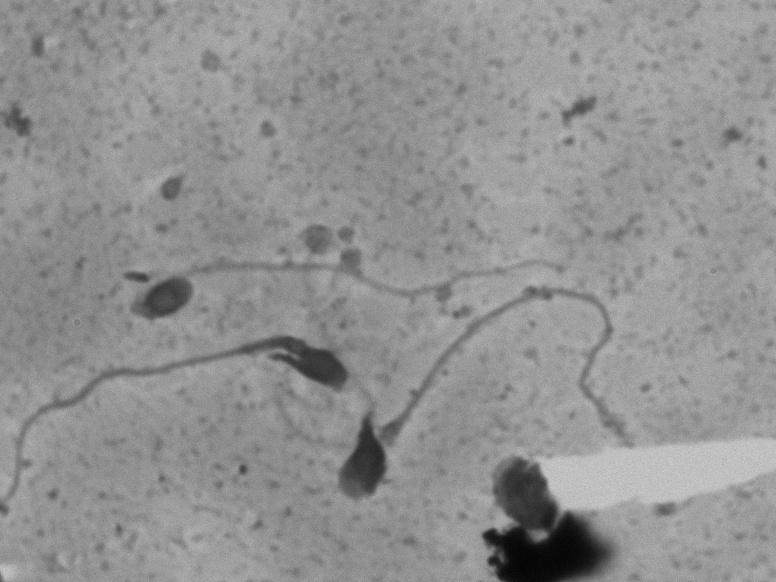Abnormal: (1, 318, 357, 513), (91, 218, 576, 351)
